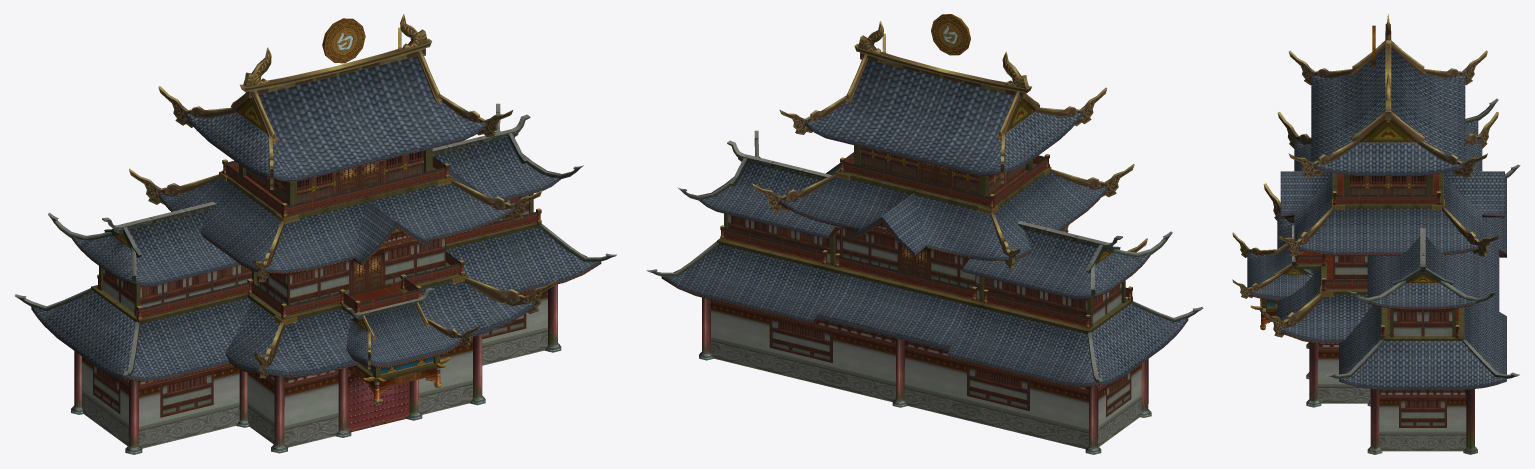
The model's file is Yland3_fzi_04 Yland3.FBX.
The picture shows the model from 3 angles, left to right: view 1: azimuth 30°, elevation 25°; view 2: azimuth 150°, elevation 25°; view 3: azimuth 270°, elevation 25°; orthographic projection. The views are drawn at different scales.
Parts seen in each view (by area): view 1: Yland3_fzi_04 Yland3; view 2: Yland3_fzi_04 Yland3; view 3: Yland3_fzi_04 Yland3.
Part boxes in pixels (x1=…): Yland3_fzi_04 Yland3: x1=14, y1=14, x2=616, y2=454; Yland3_fzi_04 Yland3: x1=646, y1=14, x2=1203, y2=454; Yland3_fzi_04 Yland3: x1=1232, y1=14, x2=1520, y2=454.
Size of the model in its own units: 13.65 by 10.05 by 7.86.
